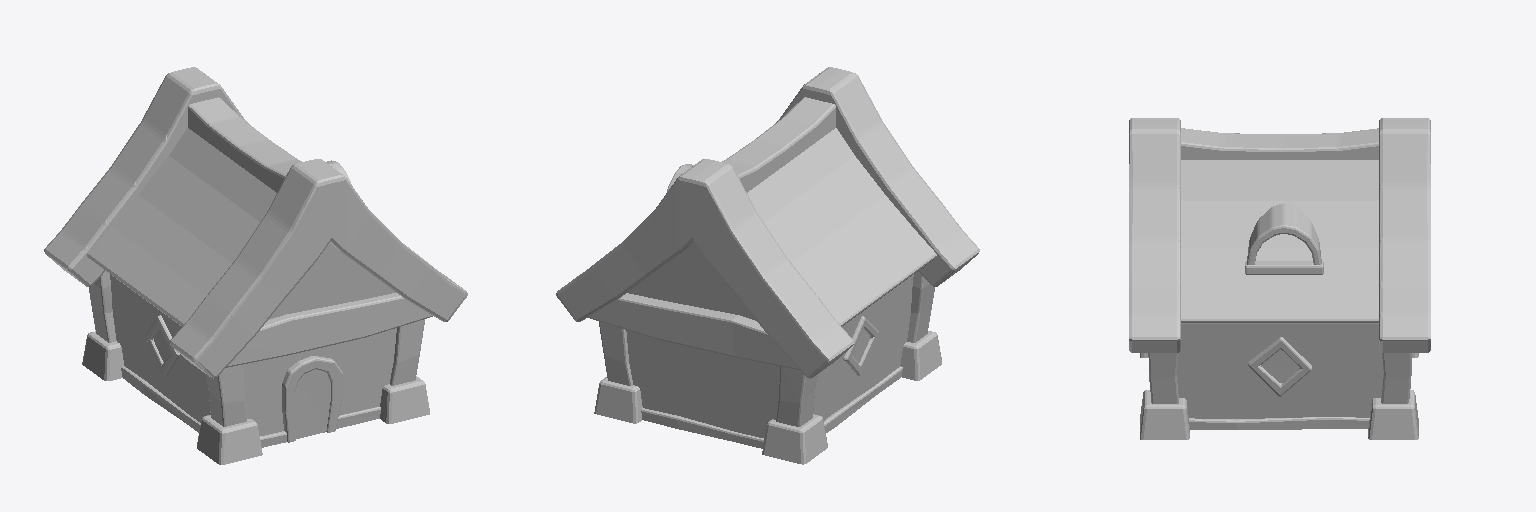
File: SM_villaB.obj
3 renders of one model, left to right at view 1: azimuth 30°, elevation 25°; view 2: azimuth 150°, elevation 25°; view 3: azimuth 270°, elevation 25°, orthographic.
Visible parts, largest first — view 1: poutre_toit, toit, maison_base, poutres_devant_derriere, pierre_poutre, poutres_verticales, poutre_haut_toit, porte_cadre, porte_planche, pierre_base.001, fenetre_carree_cadre; view 2: poutre_toit, maison_base, toit, poutres_devant_derriere, pierre_poutre, poutres_verticales, poutre_haut_toit, pierre_base.001, fenetre_carree_cadre; view 3: toit, poutre_toit, maison_base, poutre_haut_toit, pierre_poutre, poutres_verticales, fenetre_ronde_cadre, pierre_base.001, fenetre_carree_cadre, Cube, porte_planche.001.
Part boxes in pixels (x1,y1,x2,y2): poutre_toit: (44,67,467,378); toit: (87,128,276,326); maison_base: (110,243,396,435); poutres_devant_derriere: (226,293,432,367); pierre_poutre: (82,331,429,464); poutres_verticales: (89,271,424,426); poutre_haut_toit: (188,97,301,192); porte_cadre: (282,356,342,442); porte_planche: (295,369,330,438); pierre_base.001: (121,366,380,447); fenetre_carree_cadre: (146,315,179,375); poutre_toit: (556,67,979,378); maison_base: (626,243,913,438); toit: (747,128,936,326); poutres_devant_derriere: (588,293,799,369); pierre_poutre: (594,331,941,464); poutres_verticales: (599,271,934,426); poutre_haut_toit: (722,97,835,192); pierre_base.001: (641,366,902,448); fenetre_carree_cadre: (843,316,878,375); toit: (1181,160,1378,323); poutre_toit: (1129,118,1430,352); maison_base: (1177,324,1383,418); poutre_haut_toit: (1181,128,1378,159); pierre_poutre: (1140,353,1418,439); poutres_verticales: (1148,353,1411,403); fenetre_ronde_cadre: (1247,203,1321,264); pierre_base.001: (1189,417,1369,429); fenetre_carree_cadre: (1248,337,1311,396); Cube: (1245,261,1323,274); porte_planche.001: (1261,350,1299,382).
Size of the model in its own units: 8.7 by 8.02 by 8.3.